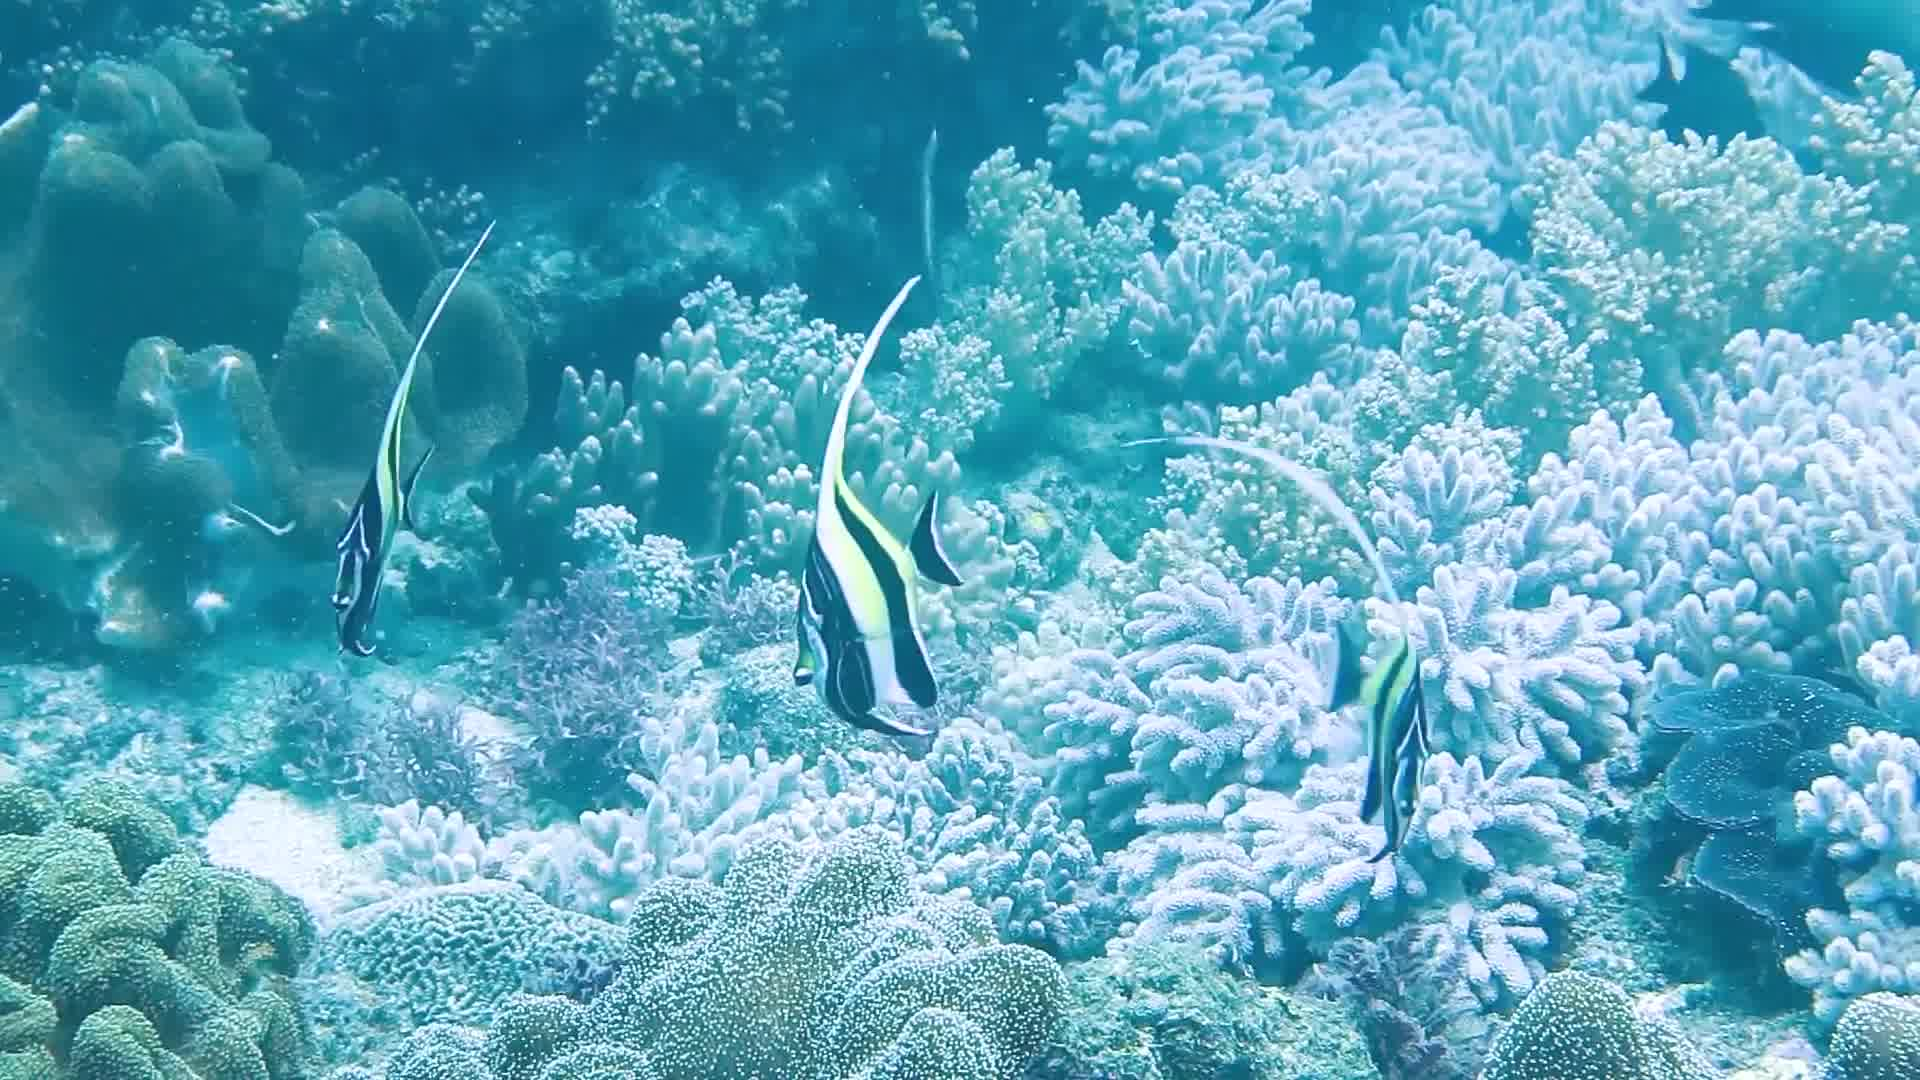Zanclus cornutus: (733, 459, 1013, 786), (1298, 574, 1528, 893), (256, 414, 458, 694)
